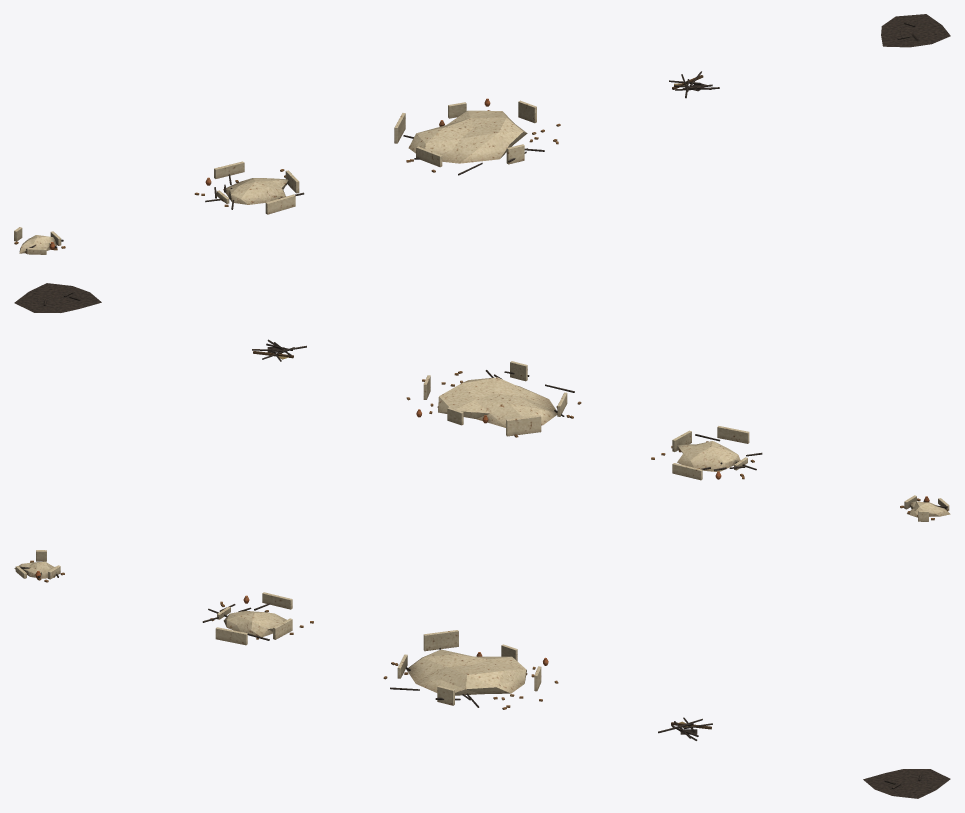
The model's file is ruins-bronze-ee901f50.glb.
3 views of the same model, one above another, from view 1: azimuth 30°, elevation 25°; view 2: azimuth 150°, elevation 25°; view 3: azimuth 330°, elevation 25° (orthographic).
Visible parts, largest first — view 1: LOD0.002, LOD0.001, LOD0.004, LOD0; view 2: LOD0.002, LOD0.001, LOD0.004, LOD0; view 3: LOD0.002, LOD0.001, LOD0.004, LOD0.
Boxes of the visible parts, x1,y1,x2,y2 form: LOD0.002: [394, 98, 560, 175]; LOD0.001: [194, 161, 304, 214]; LOD0.004: [881, 14, 950, 47]; LOD0: [14, 227, 65, 254]; LOD0.002: [406, 361, 581, 437]; LOD0.001: [651, 426, 762, 480]; LOD0.004: [14, 283, 101, 312]; LOD0: [900, 495, 950, 521]; LOD0.002: [383, 630, 558, 709]; LOD0.001: [202, 592, 313, 645]; LOD0.004: [863, 769, 950, 798]; LOD0: [14, 550, 64, 582].
Size of what is drawn, in the model's own units: 12.73 by 0.2172 by 1.62.
Materials: 1 (1 with a texture image).
